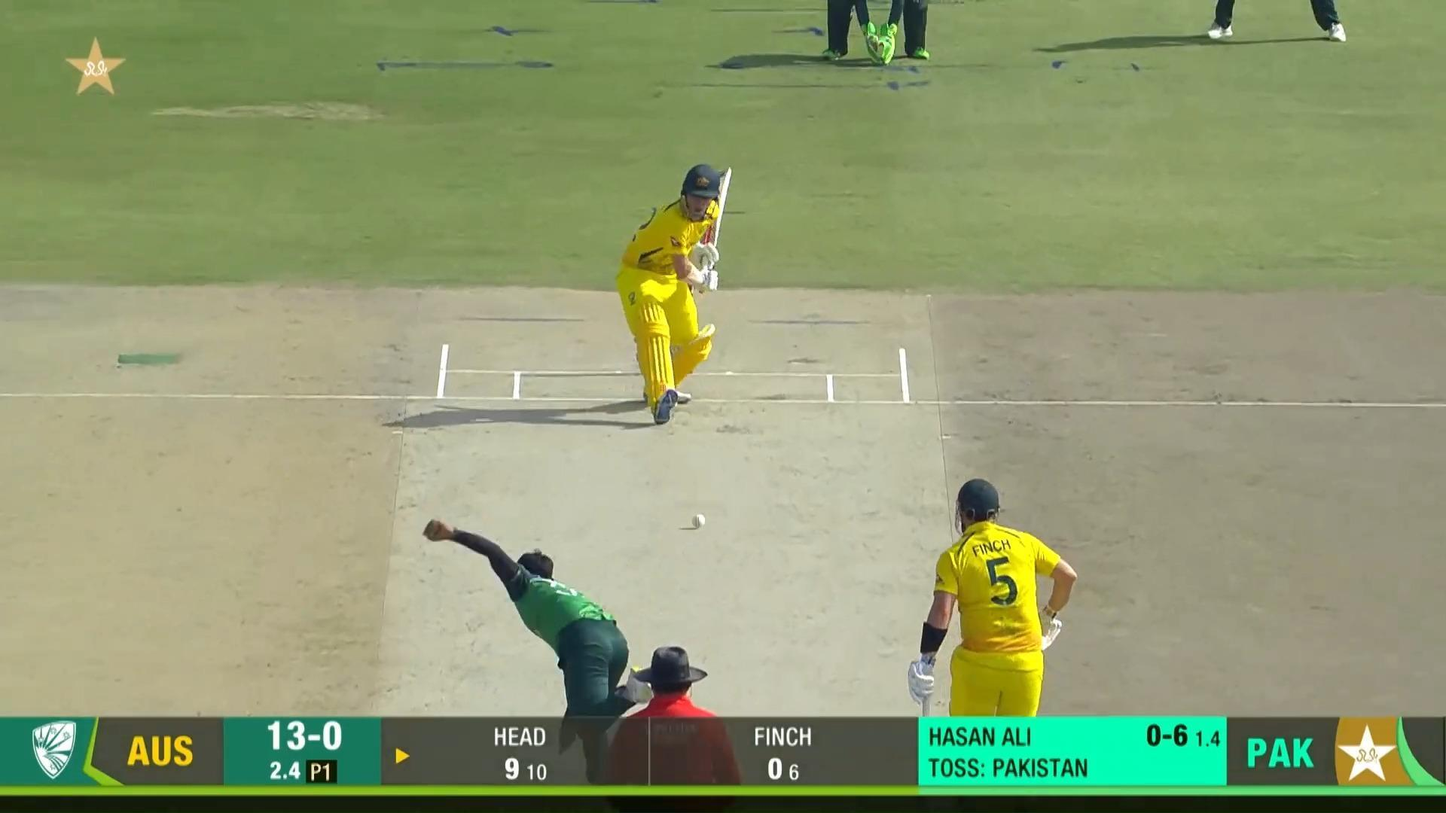BM 1: (616, 166, 734, 424)
BO: (421, 516, 654, 781)
